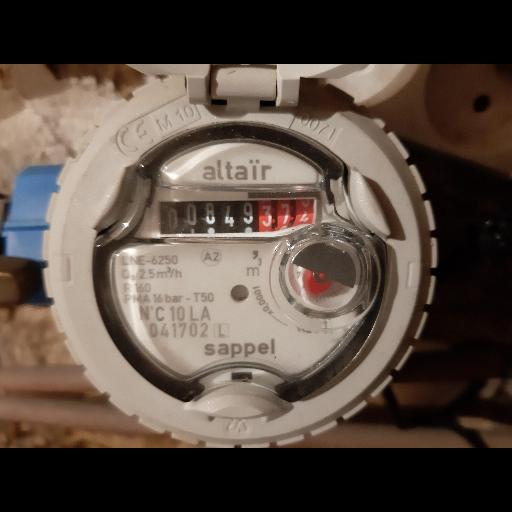0: (165, 202, 182, 235), (186, 202, 199, 234)
3: (257, 200, 276, 232)
4: (292, 198, 314, 228), (223, 201, 238, 233)
7: (277, 200, 293, 231)
8: (204, 201, 218, 234)
9: (240, 201, 256, 234)
border_water_meter_number: (135, 186, 357, 239)
